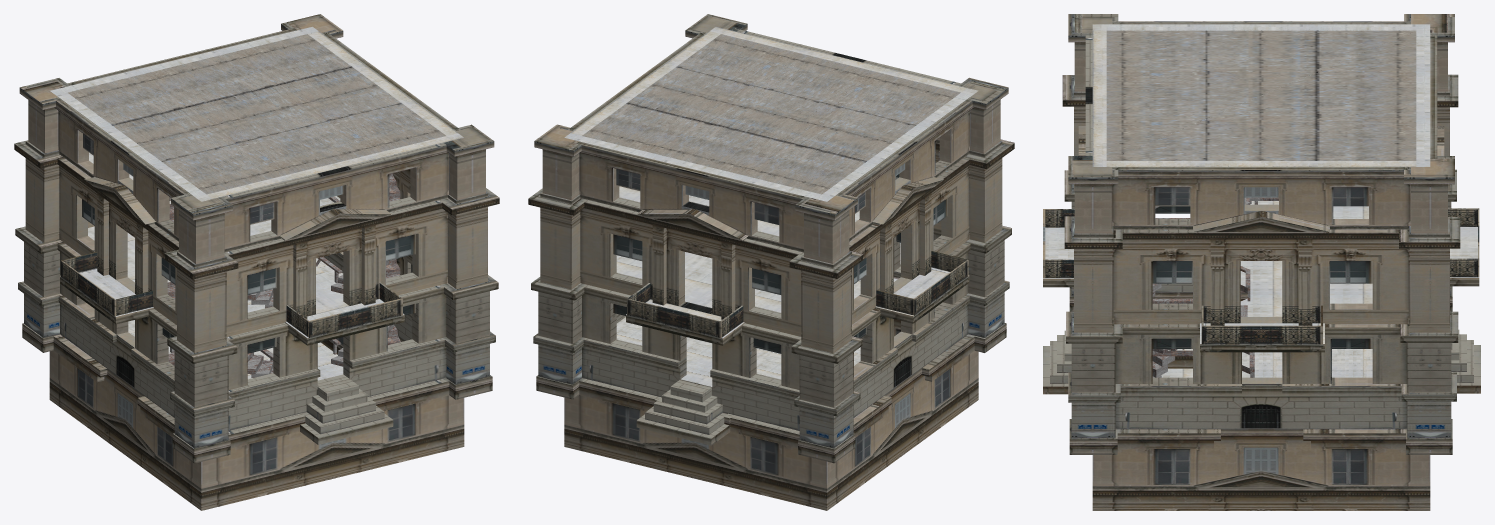
The model's file is BagBuilding6High.fbx.
3 views of the same model, side by side, from view 1: azimuth 30°, elevation 25°; view 2: azimuth 150°, elevation 25°; view 3: azimuth 270°, elevation 25° (orthographic). The views are drawn at different scales.
Visible parts, largest first — view 1: mainA300, roofA300, roofAb300, frontsteps300, floorA300, stairsA300; view 2: mainA300, roofA300, roofAb300, floorA300, backsteps300; view 3: mainA300, roofA300, roofAb300, floorA300, stairsA300, frontsteps300, backsteps300.
Part boxes in pixels (<box>): mainA300: <box>14,14,499,510</box>; roofA300: <box>68,34,445,194</box>; roofAb300: <box>50,26,463,337</box>; frontsteps300: <box>296,379,393,444</box>; floorA300: <box>88,152,349,380</box>; stairsA300: <box>167,173,400,377</box>; mainA300: <box>528,14,1014,510</box>; roofA300: <box>582,34,960,194</box>; roofAb300: <box>564,26,978,338</box>; floorA300: <box>616,186,897,386</box>; backsteps300: <box>636,379,733,445</box>; mainA300: <box>1043,14,1479,510</box>; roofA300: <box>1106,30,1416,160</box>; roofAb300: <box>1043,24,1479,343</box>; floorA300: <box>1161,201,1372,377</box>; stairsA300: <box>1152,197,1278,377</box>; frontsteps300: <box>1043,330,1071,394</box>; backsteps300: <box>1451,329,1480,393</box>.
Bounding box in the file's own units: 21.24 × 18.51 × 21.35.
